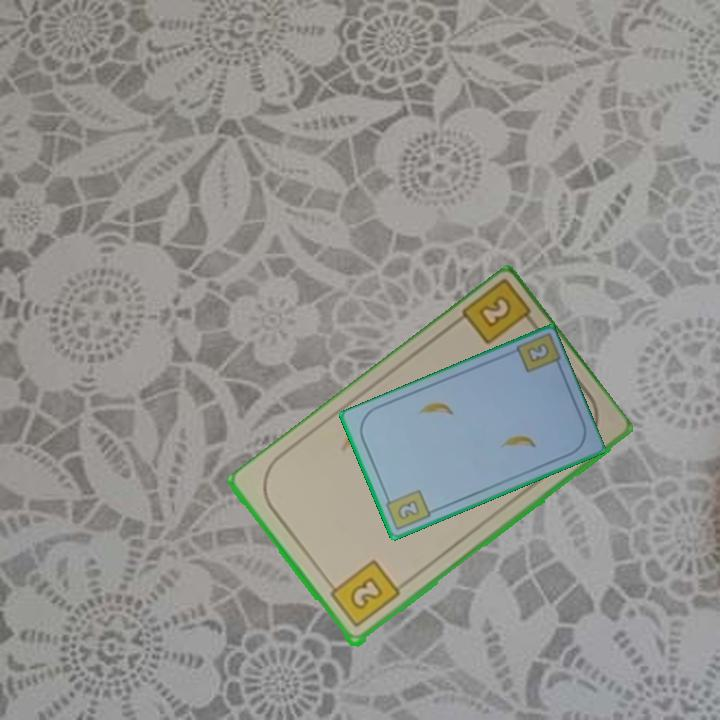2b: (323, 557, 403, 631), (457, 279, 542, 348), (381, 486, 434, 533), (523, 339, 552, 366)
